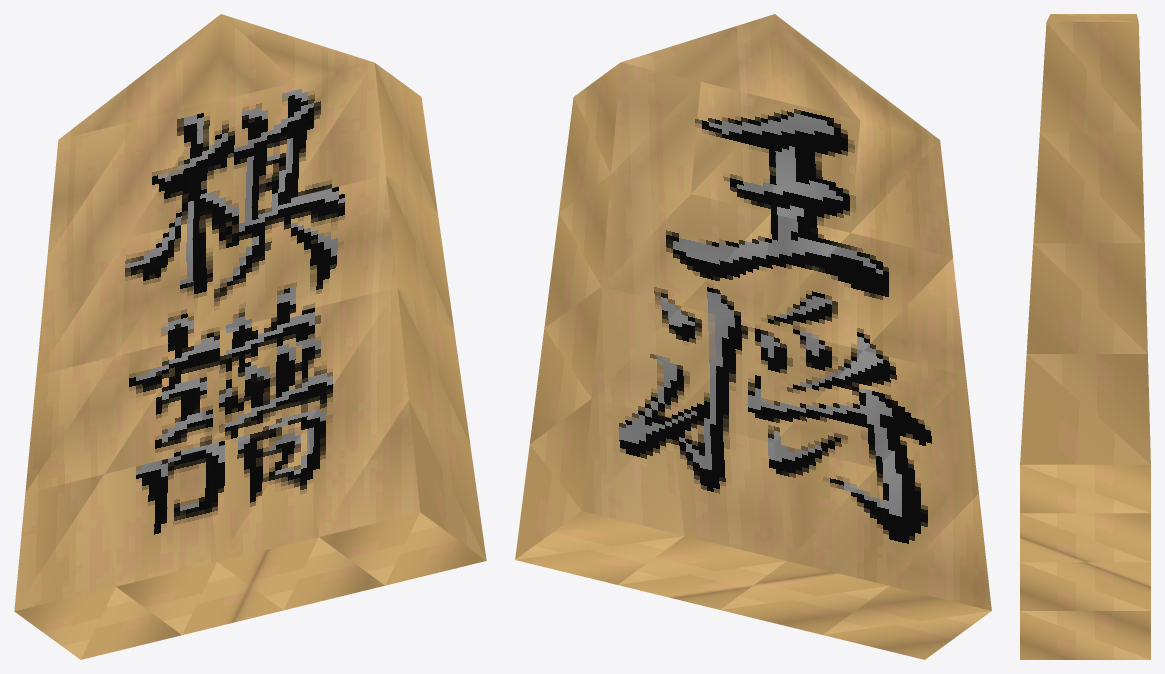
File: ps2_save-icons_toudaishougijousekidojokanketsuhen-gamerecords.glb
3 renders of one model, left to right at view 1: azimuth 30°, elevation 25°; view 2: azimuth 150°, elevation 25°; view 3: azimuth 270°, elevation 25°, orthographic. The views are drawn at different scales.
Parts seen in each view (by area): view 1: kifu.ico; view 2: kifu.ico; view 3: kifu.ico.
Part boxes in pixels (bbox=[...]): kifu.ico: bbox=[14, 14, 486, 659]; kifu.ico: bbox=[515, 14, 991, 659]; kifu.ico: bbox=[1020, 14, 1150, 659].
Bounding box in the file's own units: 3.14 × 4.09 × 0.8879.
1 material, 1 textured.
